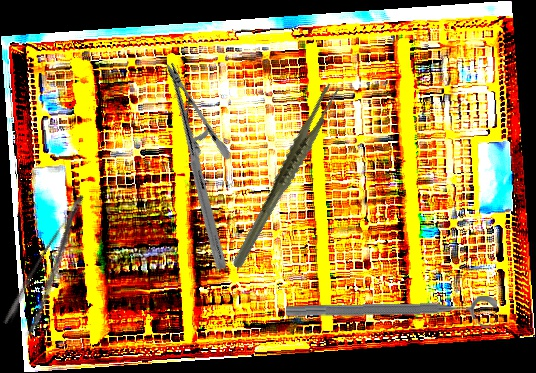Dressing Forceps: (0, 192, 108, 339)
Fixation Ring: (285, 296, 498, 334)
Needle Holder: (91, 59, 301, 273)
Tissue Forceps: (200, 80, 370, 271)
